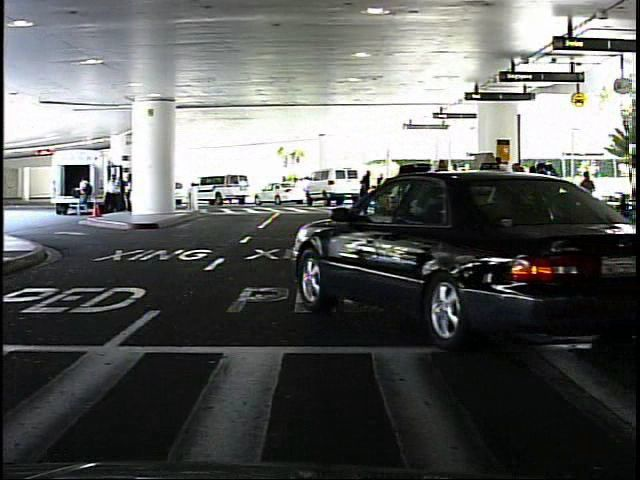person: (579, 165, 599, 222), (356, 165, 377, 203)
